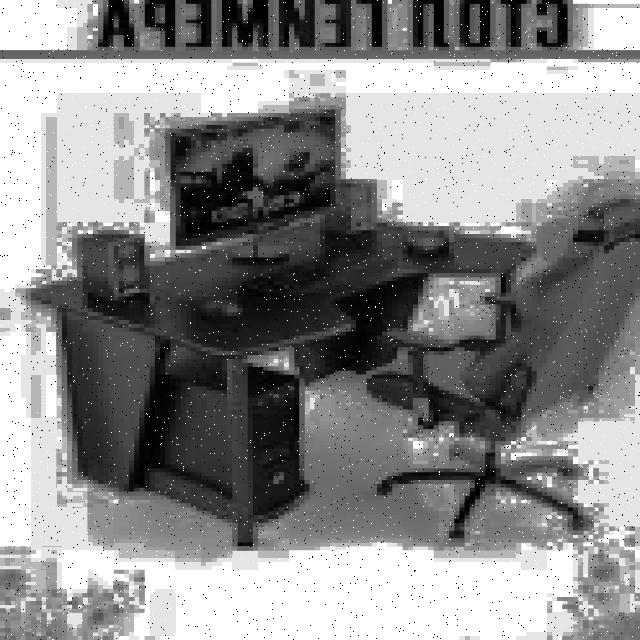book: (366, 192, 640, 542)
table: (31, 215, 542, 546)
